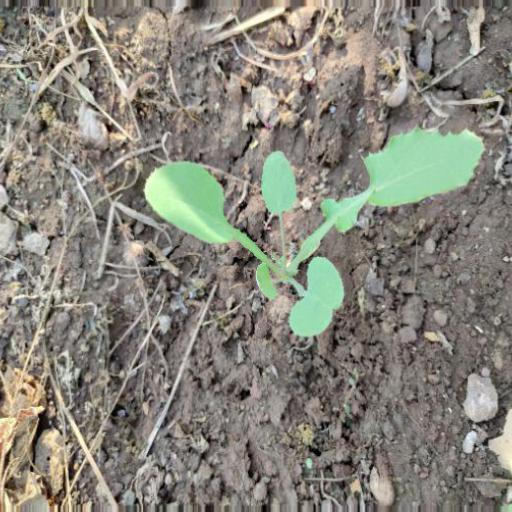weed: (129, 119, 486, 340)
